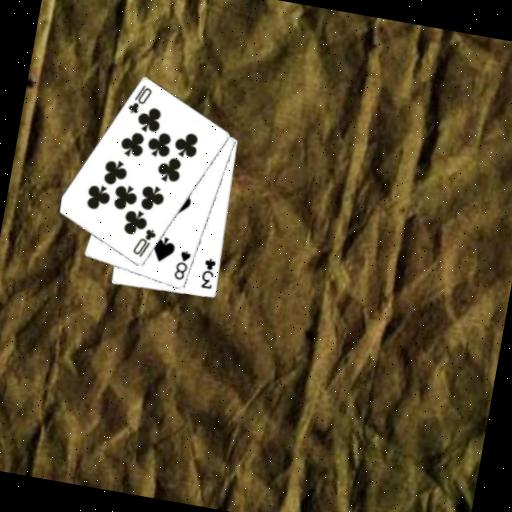10C: (124, 79, 155, 118), (128, 223, 159, 261)
3C: (197, 254, 219, 291)
8S: (170, 245, 194, 282)
